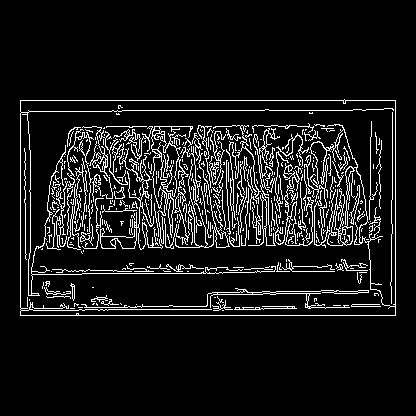buddha-standing: (203, 130, 236, 247)
